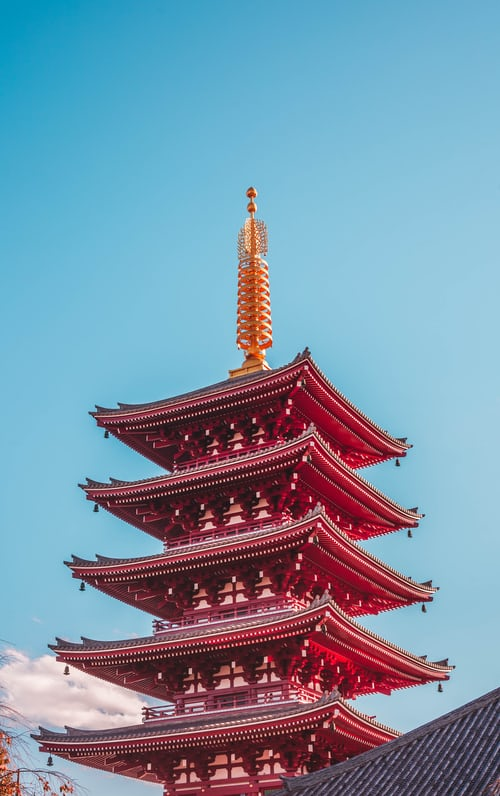Temple: (51, 214, 455, 763)
